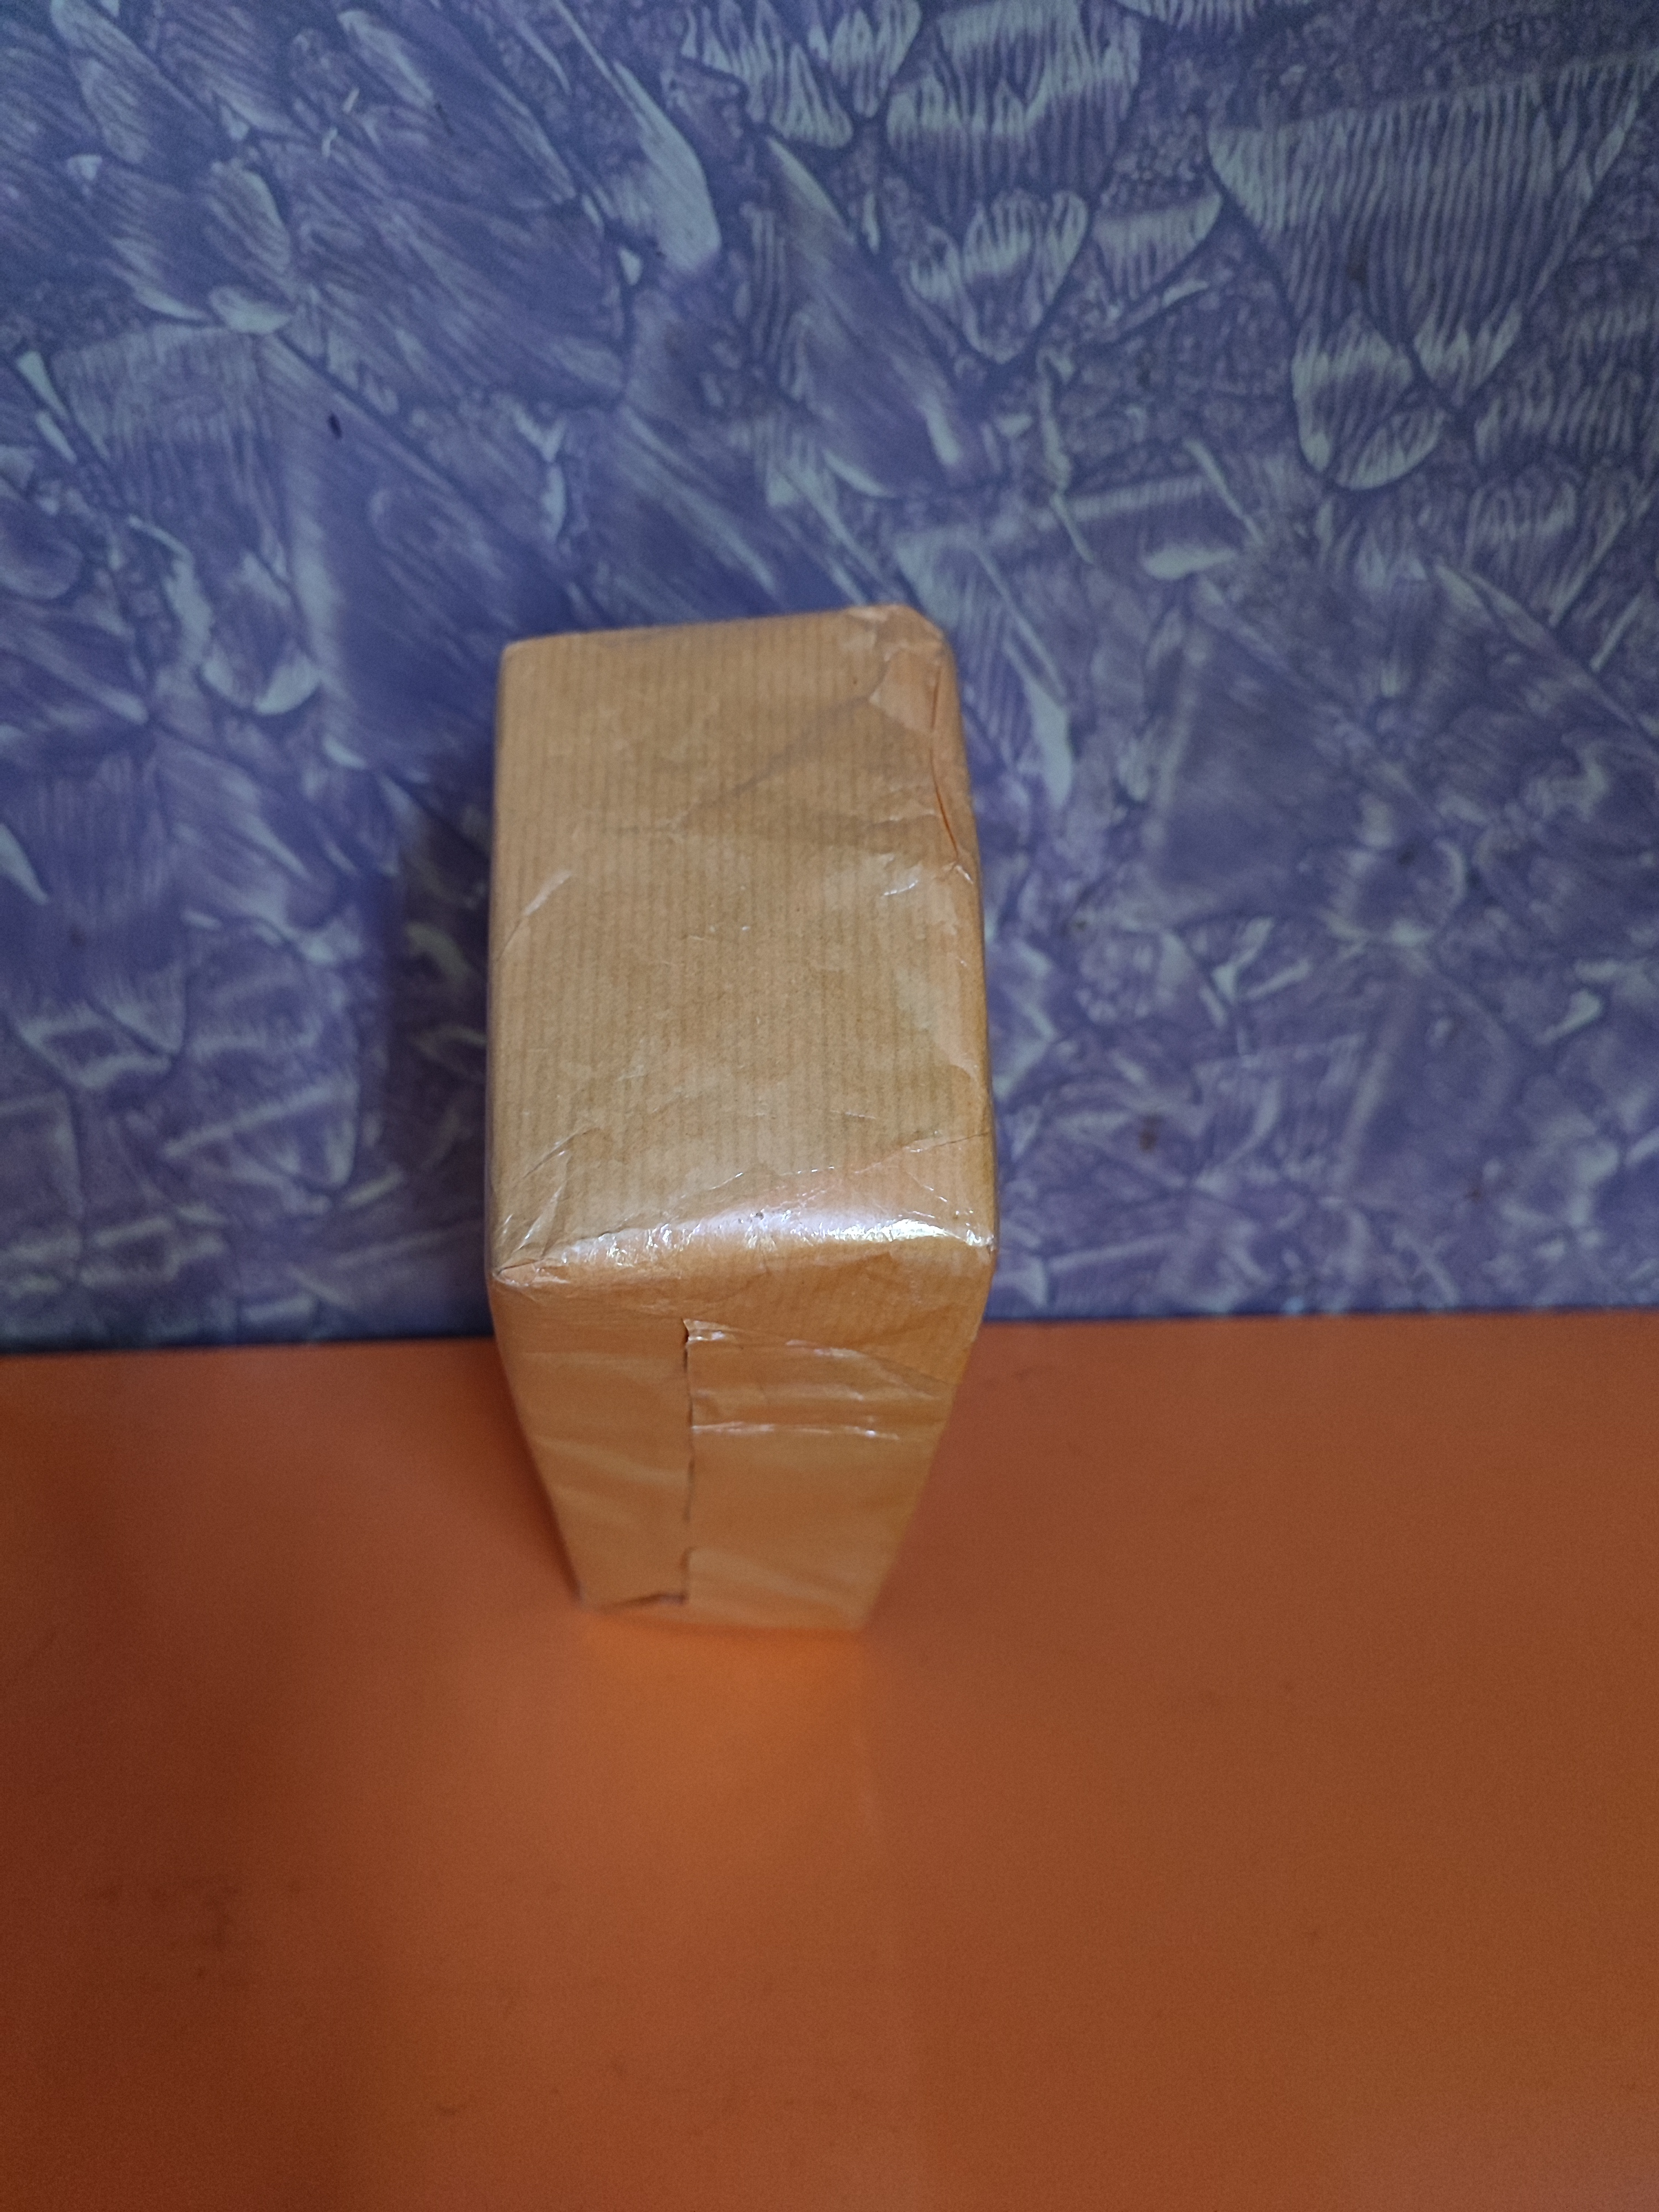Box: (460, 549, 988, 1622)
